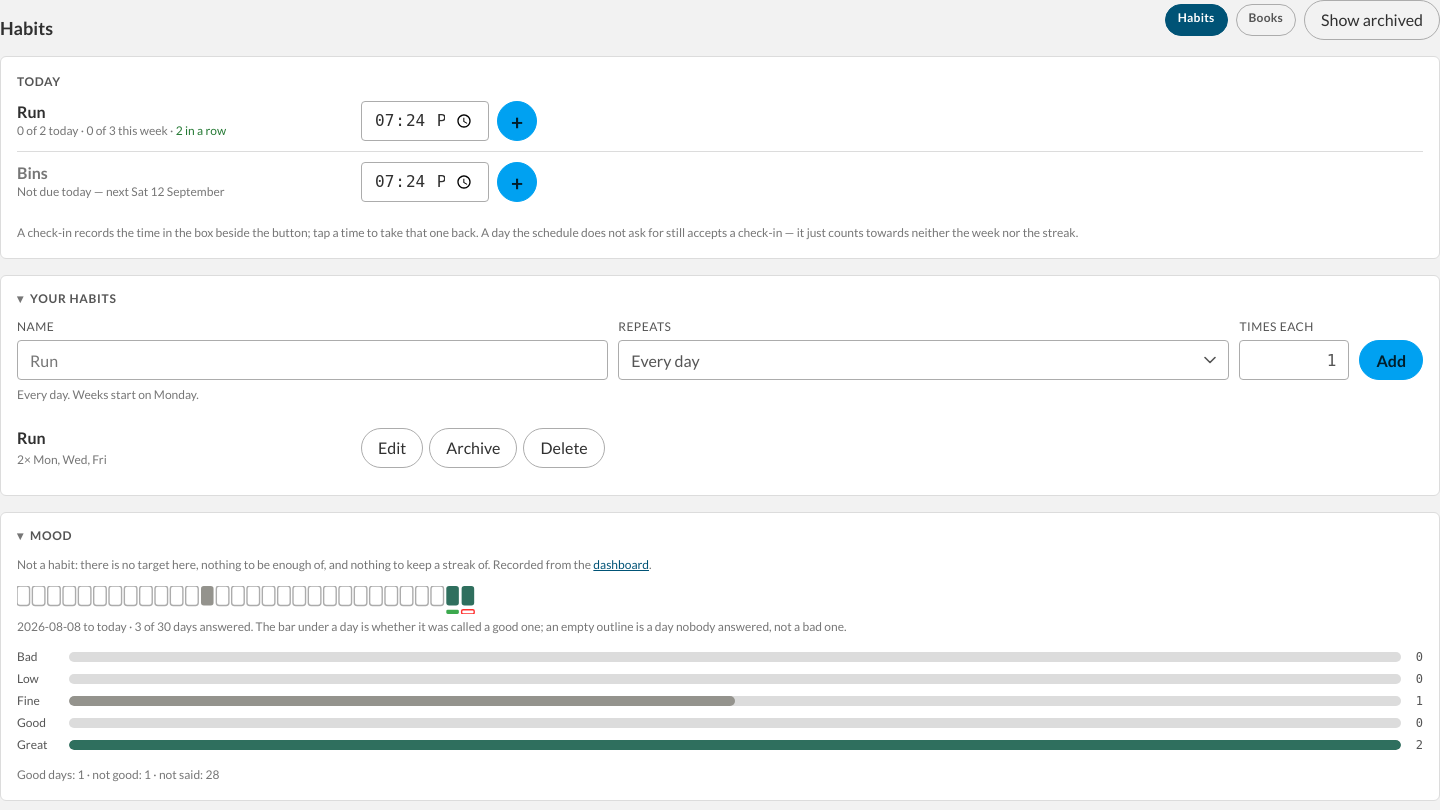
Test: HabitsPage › returns the time box to the clock after a check-in
Replace the text in the time field named "Time for the next check-in of Run" with "08:00". click: (425, 121)
box: [361,101,489,141]
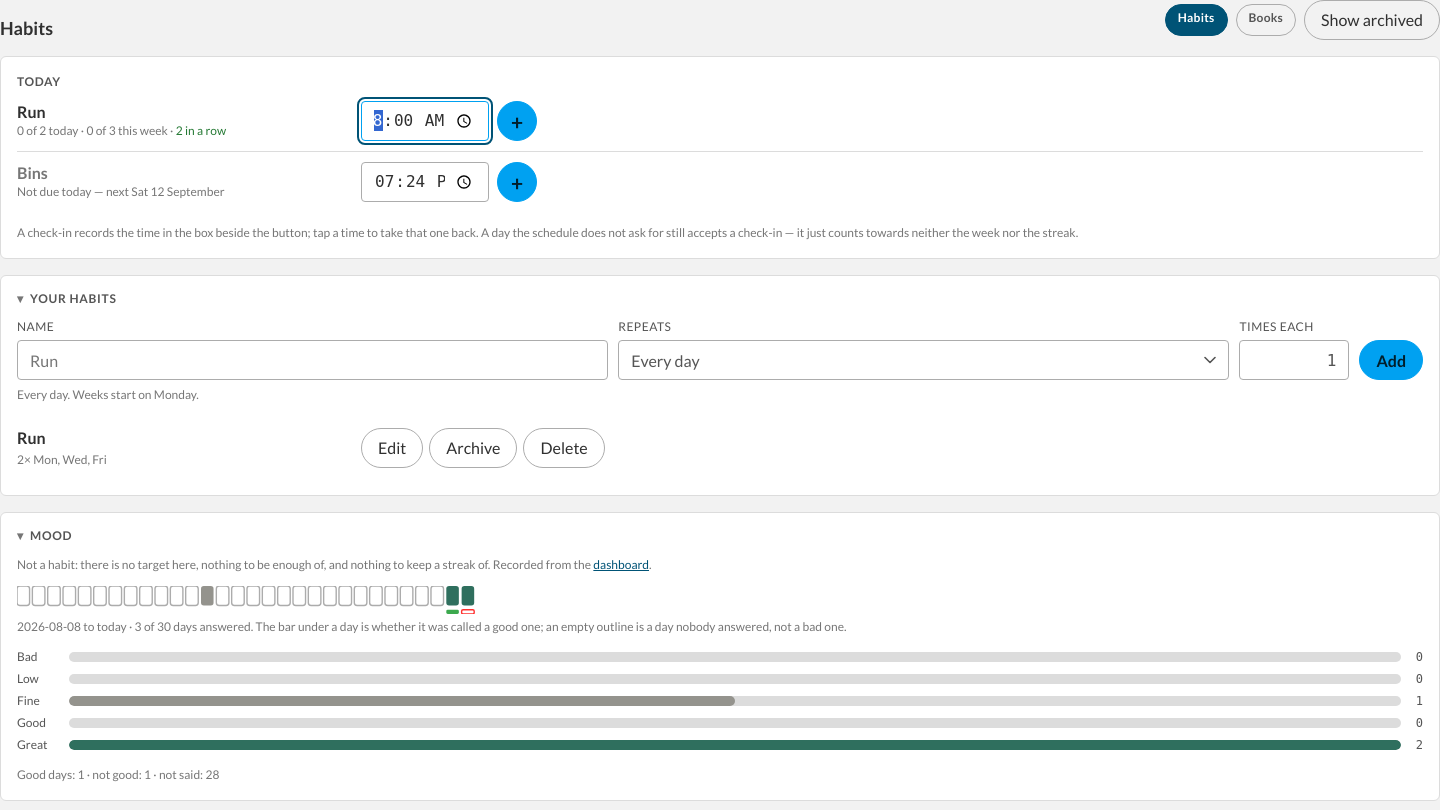
Click the button named "Check in Run". click: (517, 121)
box: [497,101,537,141]
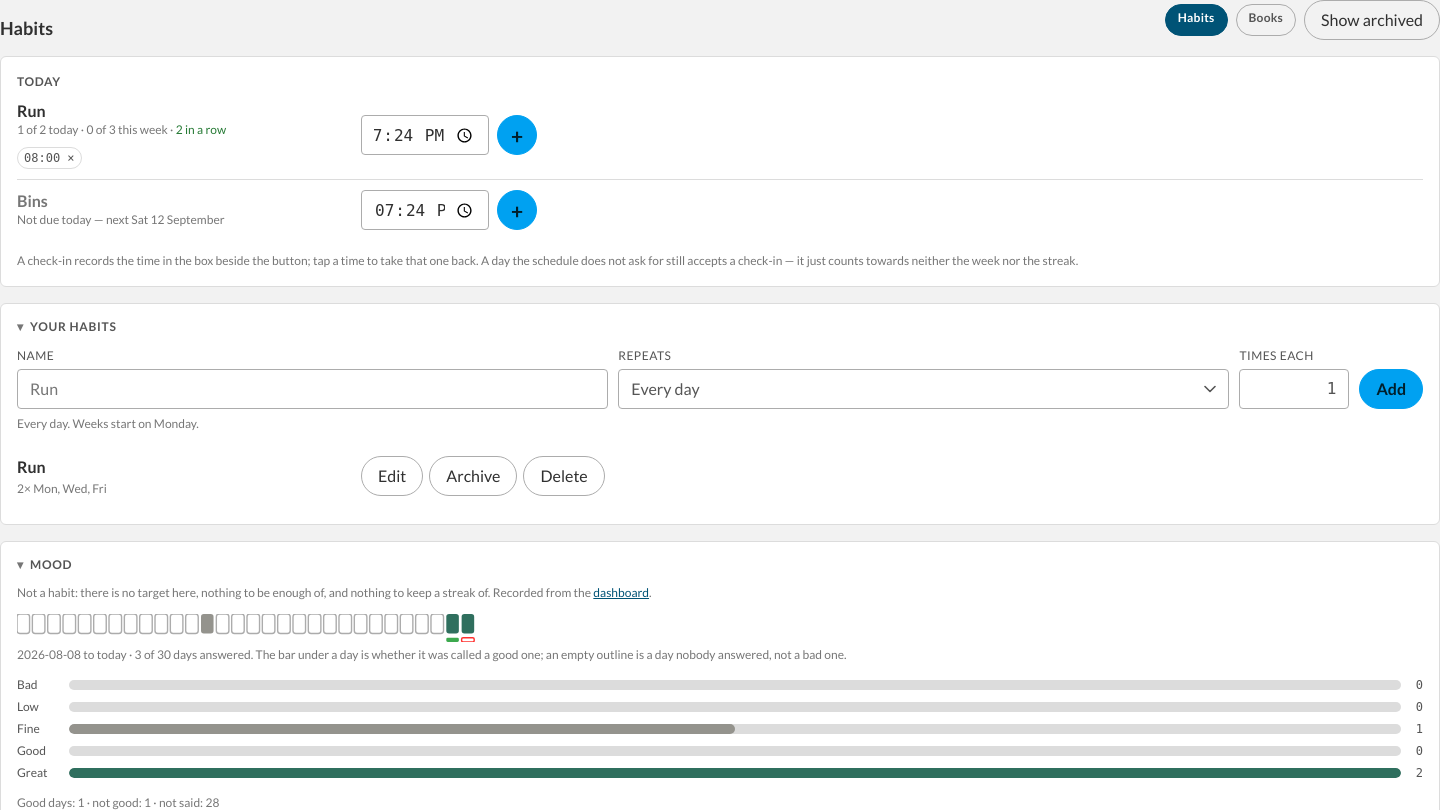
Check: the text "1 of 2 today · 0 of 3 this week · 2 in a row" is shown, box [17,122,226,137]
Check: the time field named "Time for the next check-in of Run" does not hold "08:00", box [361,115,489,155]
